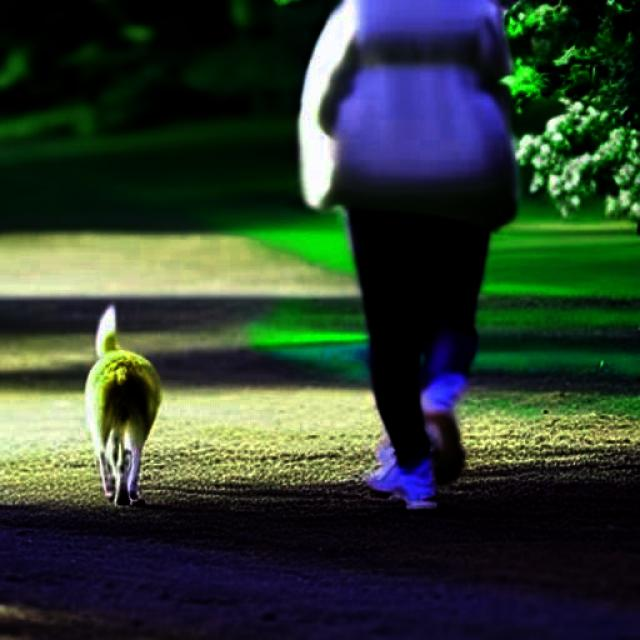Unleashed_Dog: (86, 145, 470, 507)
